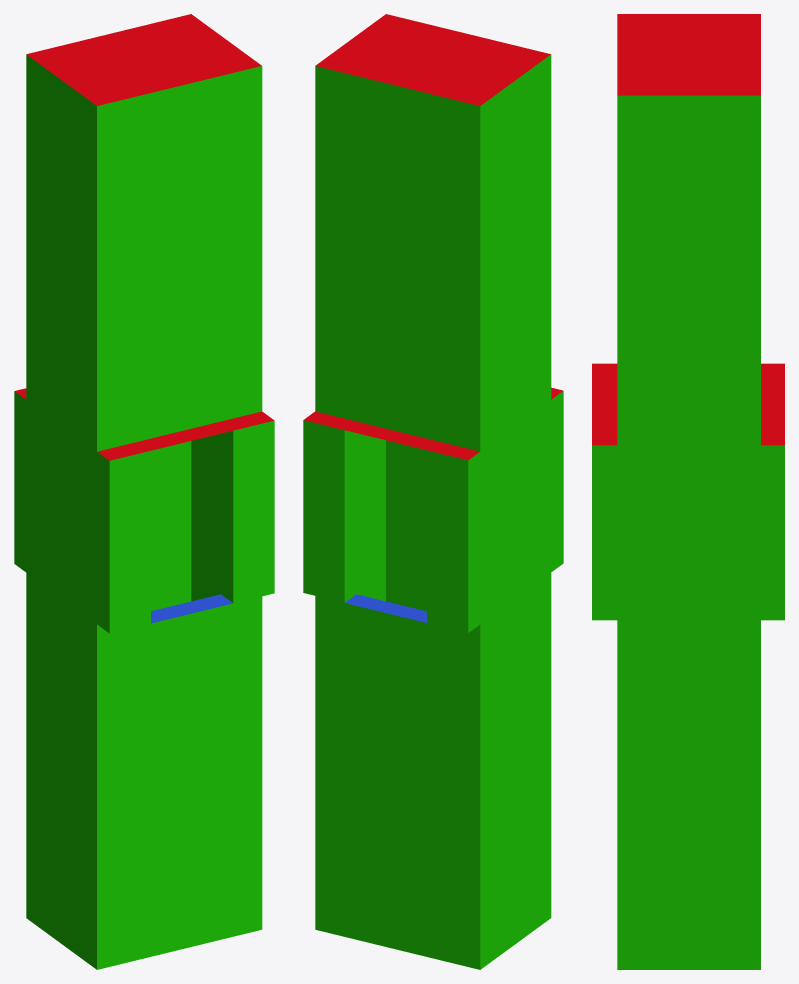
File: 1U_Cube_Deep_and_Tall.fbx
3 views of the same model, side by side, from view 1: azimuth 30°, elevation 25°; view 2: azimuth 150°, elevation 25°; view 3: azimuth 270°, elevation 25° (orthographic).
Visible parts, largest first — view 1: 1U Cube Deep and Tall; view 2: 1U Cube Deep and Tall; view 3: 1U Cube Deep and Tall.
Part boxes in pixels (<box>): 1U Cube Deep and Tall: <box>14,14,274,969</box>; 1U Cube Deep and Tall: <box>303,14,563,969</box>; 1U Cube Deep and Tall: <box>592,14,784,969</box>.
Size of the model in its own units: 800 by 4000 by 800.
